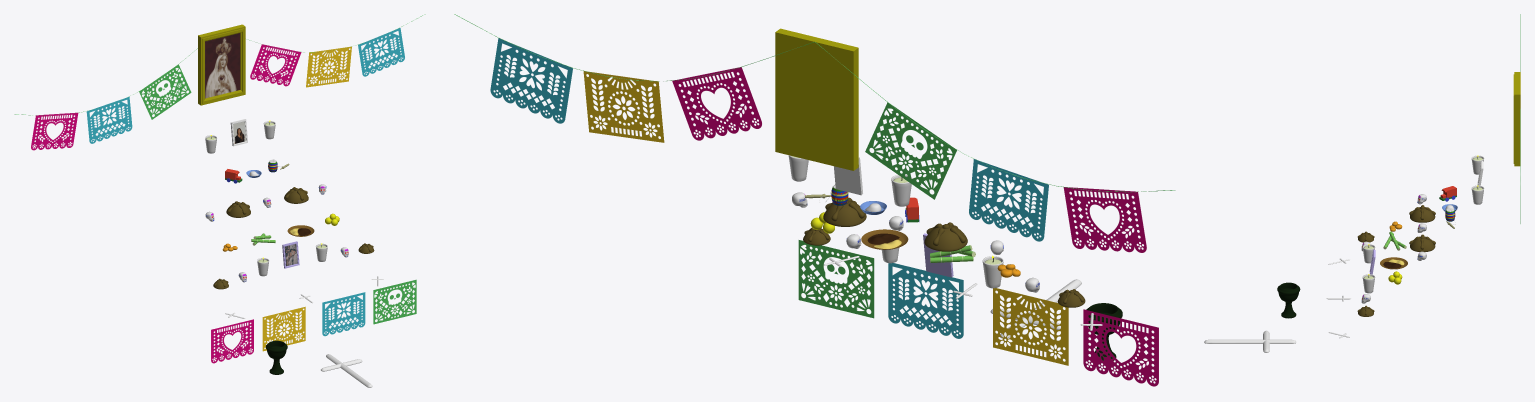
File: objetos_sincempa.gltf
3 renders of one model, left to right at view 1: azimuth 30°, elevation 25°; view 2: azimuth 150°, elevation 25°; view 3: azimuth 270°, elevation 25°, orthographic. The views are drawn at different scales.
Visible parts, largest first — view 1: picado, virgen, panes, veladoras, comida, sahumerio, cruz, difunto, purgatorio, calaveras; view 2: picado, virgen, panes, comida, veladoras, calaveras, sahumerio, purgatorio, juguetes, cruz; view 3: panes, veladoras, virgen, comida, cruz, sahumerio, juguetes, calaveras.
Boxes of the visible parts, x1,y1,x2,y2 form: picado: (14,14,425,363); virgen: (198,24,245,105); panes: (213,187,374,289); veladoras: (205,120,327,276); comida: (222,213,339,251); sahumerio: (265,340,287,374); cruz: (321,354,372,387); difunto: (282,241,299,268); purgatorio: (230,119,247,146); calaveras: (205,184,348,282); picado: (454,14,1175,386); virgen: (775,28,858,170); panes: (803,197,1085,307); comida: (810,212,1020,277); veladoras: (788,155,1003,288); calaveras: (792,192,1039,292); sahumerio: (1086,303,1122,360); purgatorio: (834,157,862,195); juguetes: (805,184,919,222); cruz: (990,279,1081,338); panes: (1357,205,1435,316); veladoras: (1362,155,1484,293); virgen: (1513,72,1520,166); comida: (1380,221,1407,284); cruz: (1204,330,1296,352); sahumerio: (1277,282,1300,318); juguetes: (1439,186,1456,228); calaveras: (1361,194,1426,303).
Size of the model in its own units: 4 by 2.31 by 2.55.
43 materials, 7 textured.
